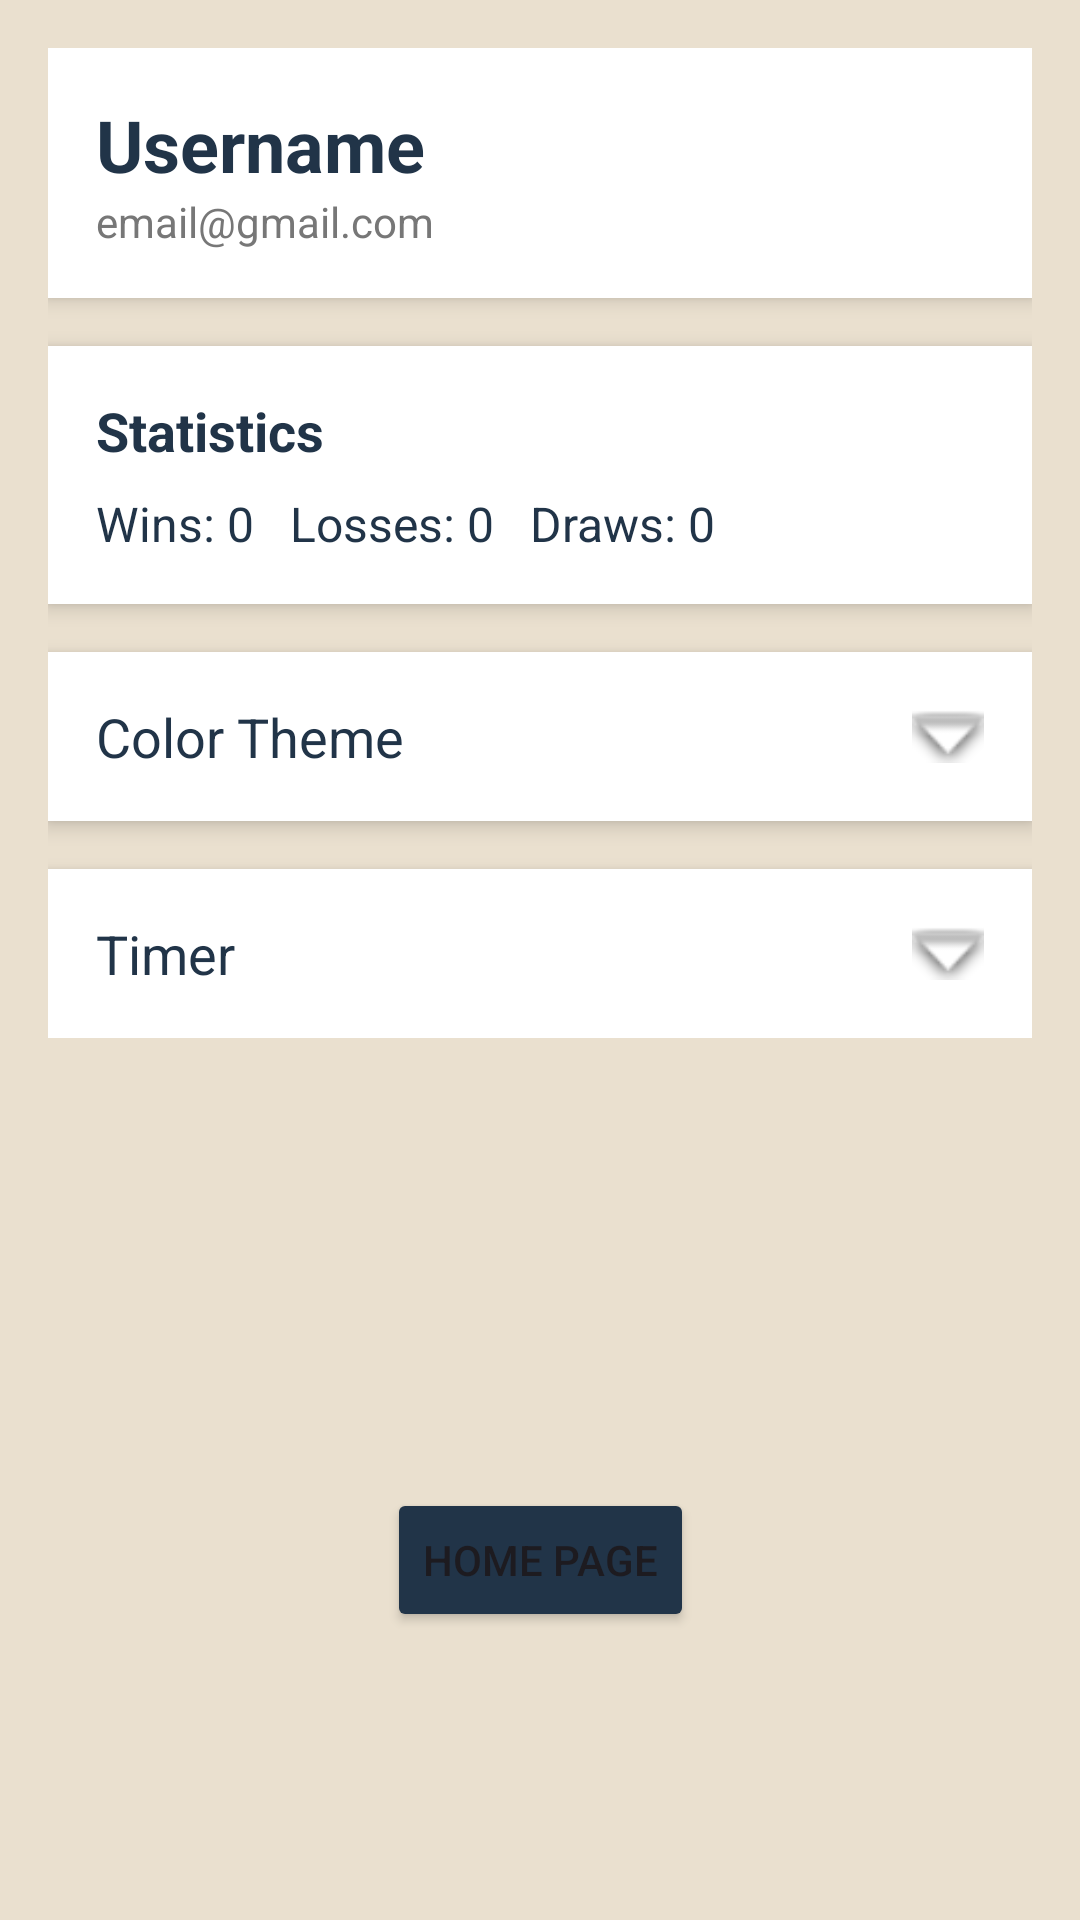

Icon click points for this 1080 × 1920 phone screenshot, format [x,y]:
arrow down float: [948,736], [948,953]
